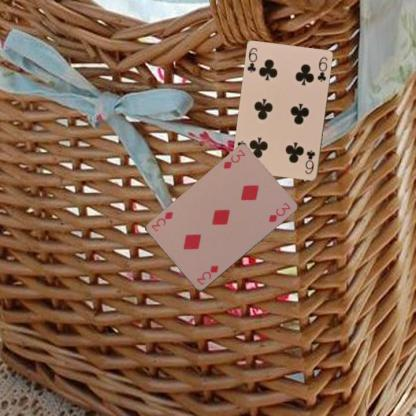3d: (194, 263, 220, 286), (220, 147, 246, 170)
6c: (245, 45, 259, 74), (302, 148, 316, 176)
